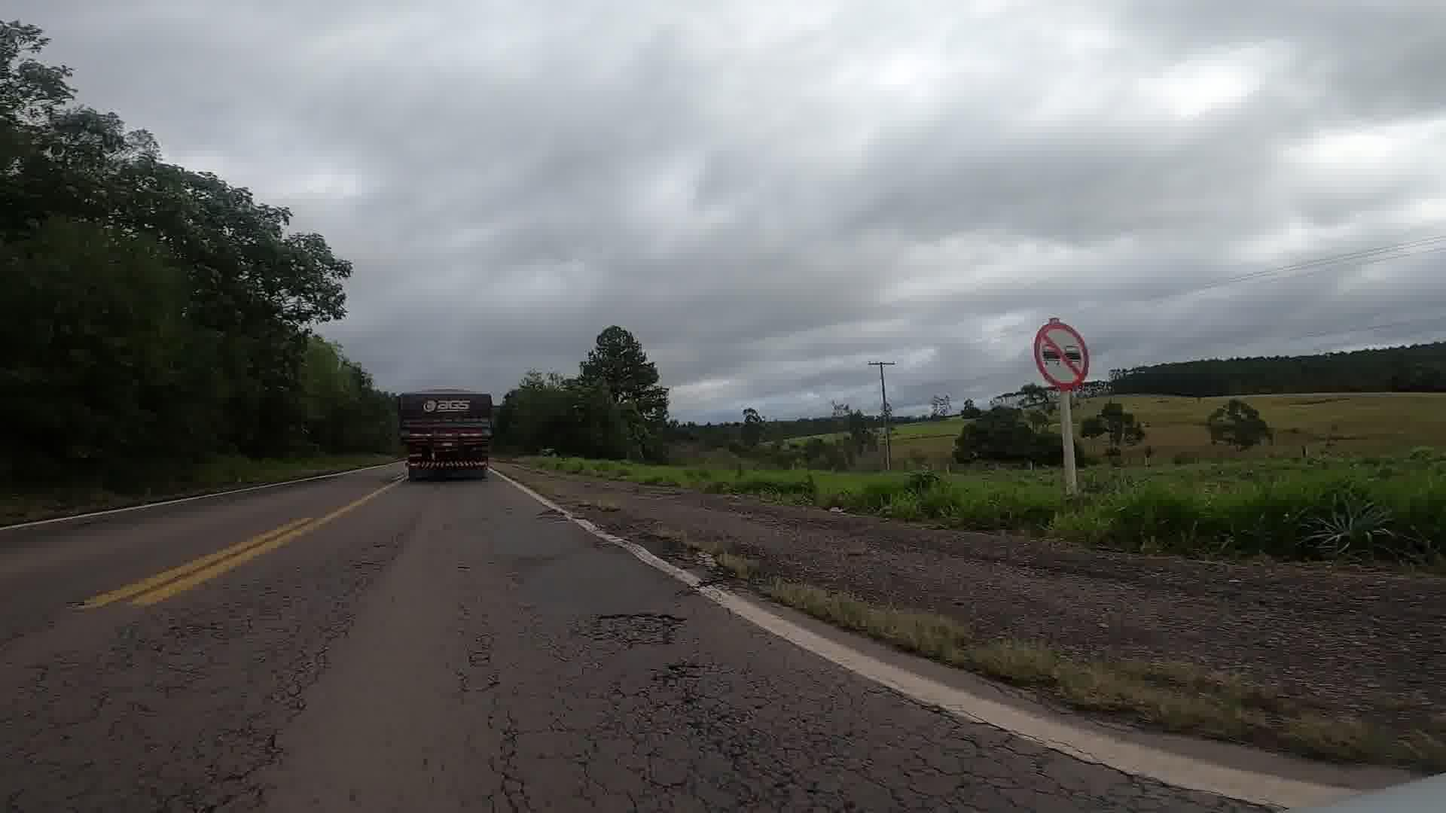R-7: (1030, 320, 1093, 388)
